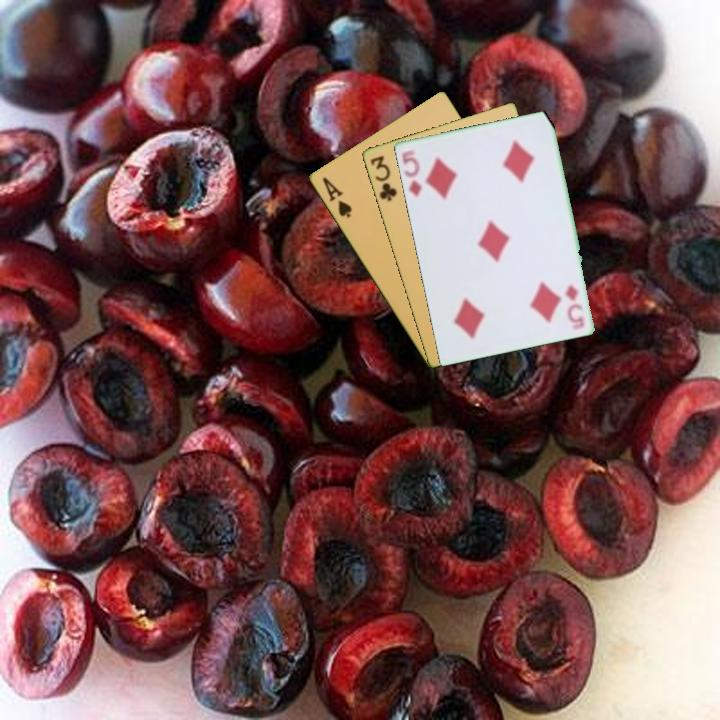3c: (366, 152, 400, 204)
5d: (398, 146, 424, 200), (562, 280, 586, 330)
As: (318, 173, 355, 221)
